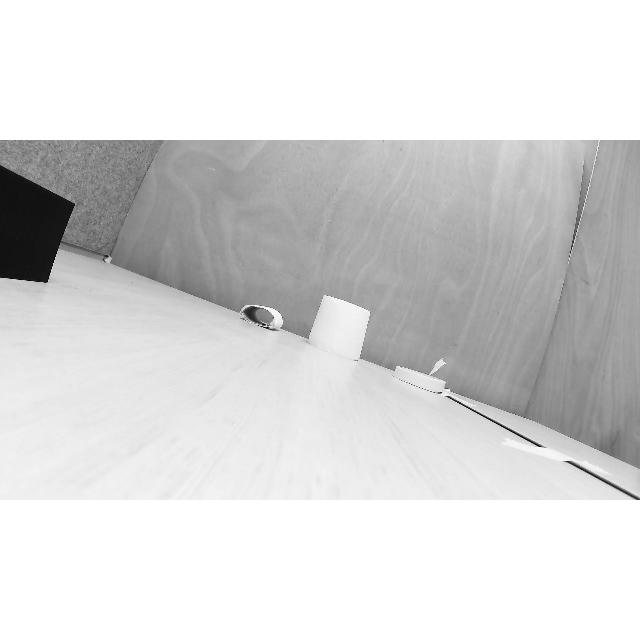targets: (308, 295, 372, 359), (393, 363, 447, 395), (238, 302, 284, 332)
